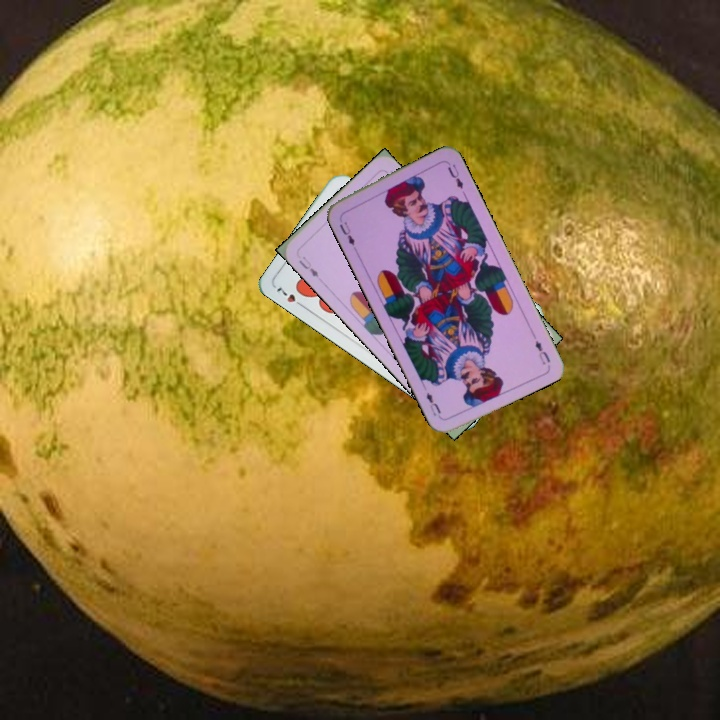EU: (335, 218, 359, 252), (295, 252, 321, 280), (531, 336, 553, 367)
H7: (272, 281, 307, 311)
